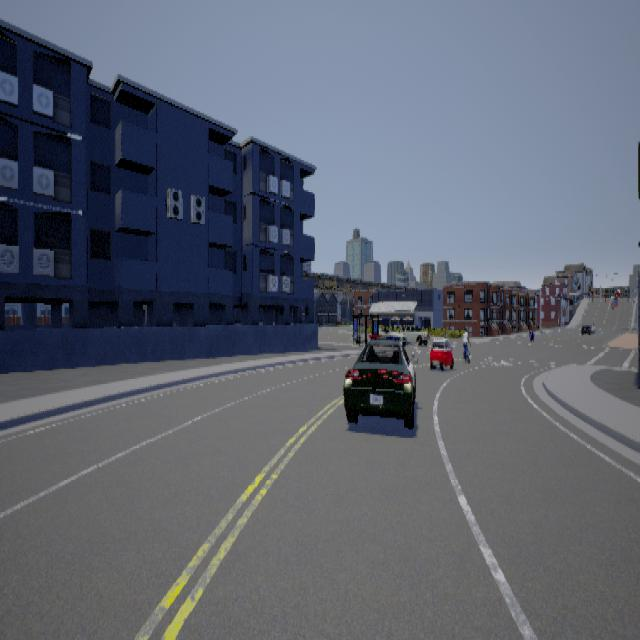bike: (459, 323, 474, 364)
vehicle: (342, 323, 429, 428), (429, 337, 453, 370)
